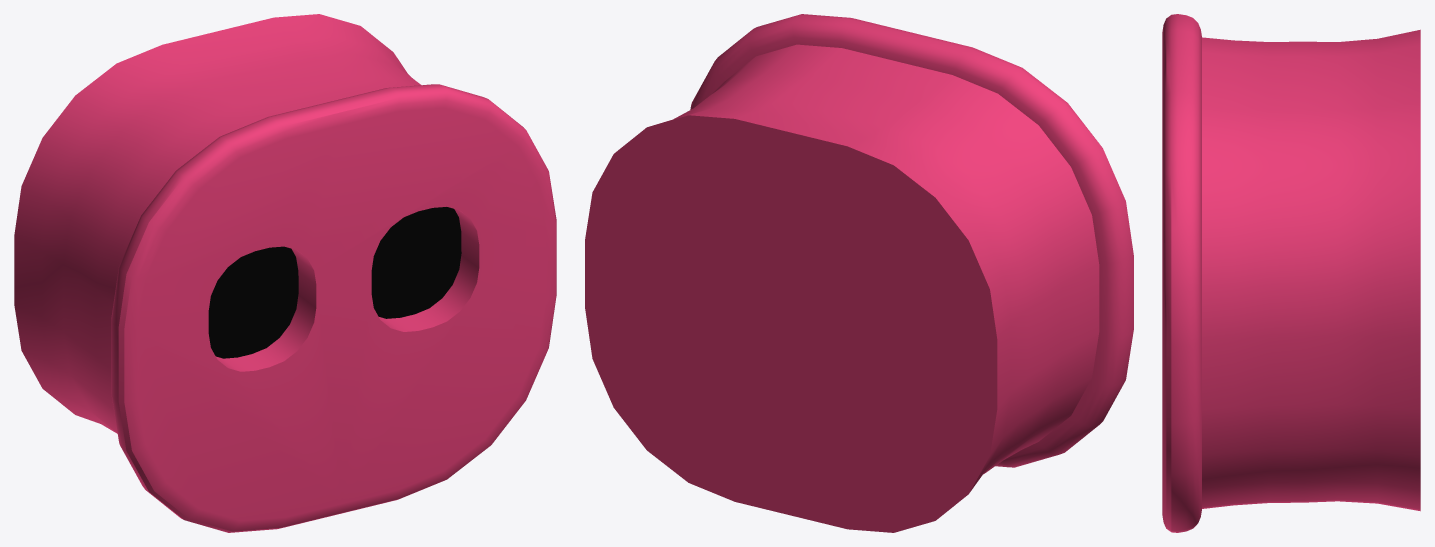
File: pig_nose.gltf
3 renders of one model, left to right at view 1: azimuth 30°, elevation 25°; view 2: azimuth 150°, elevation 25°; view 3: azimuth 270°, elevation 25°, orthographic. The views are drawn at different scales.
Visible parts, largest first — view 1: Cube.6235; view 2: Cube.6235; view 3: Cube.6235.
Part boxes in pixels (box(x1,y1,x2,y2)): Cube.6235: box(14, 14, 556, 532); Cube.6235: box(585, 14, 1133, 532); Cube.6235: box(1162, 14, 1420, 532).
Bounding box in the file's own units: 1.8 × 1.6 × 0.8815.
Materials: 1 (1 with a texture image).
